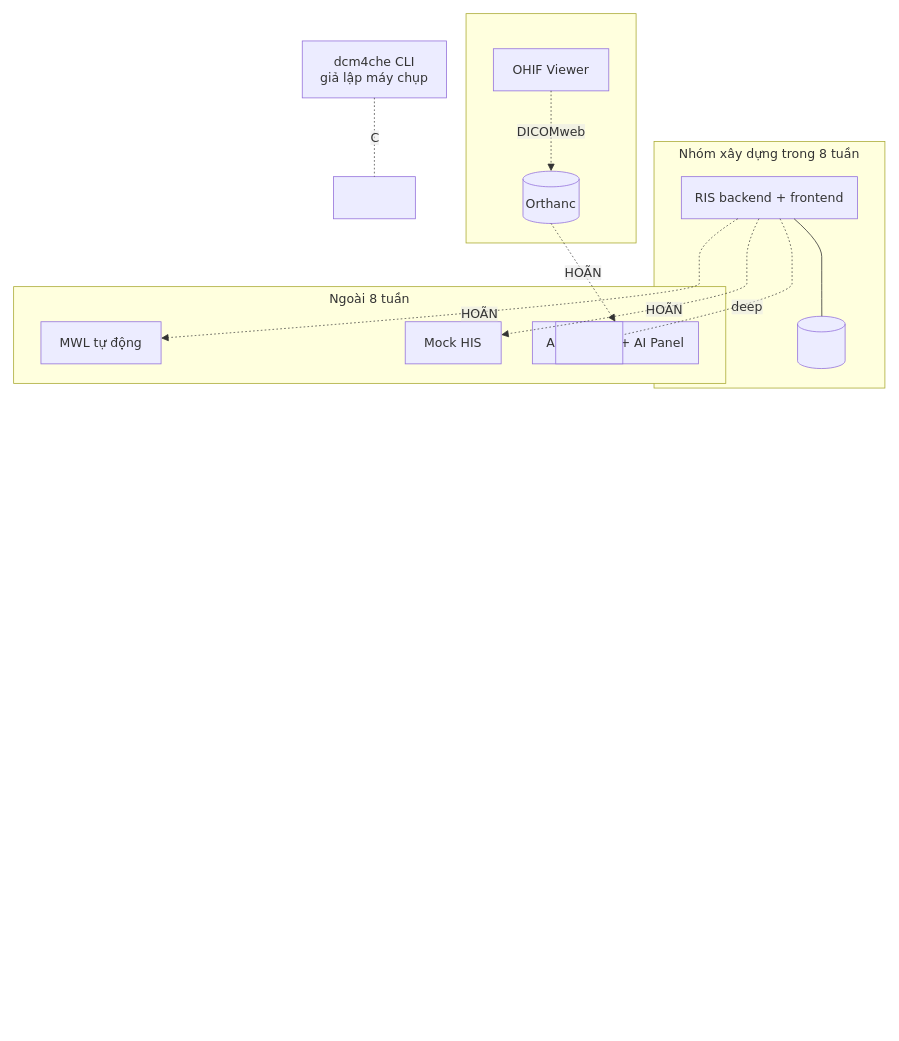
Some shapes in this 899 by 1041 pixel diagram are drawn without their labels. Each missing label, with the box of its shape:
Dựng ở tuần 7, chưa tích hợp sâu: (465, 13, 636, 243)
link: (555, 321, 623, 364)
MySQL: (797, 316, 845, 369)
STORE: (333, 176, 415, 219)
